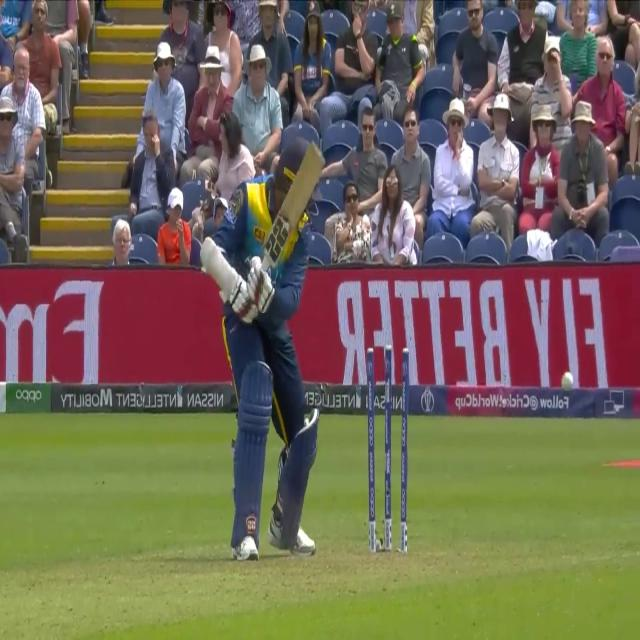ball: (558, 366, 576, 398)
